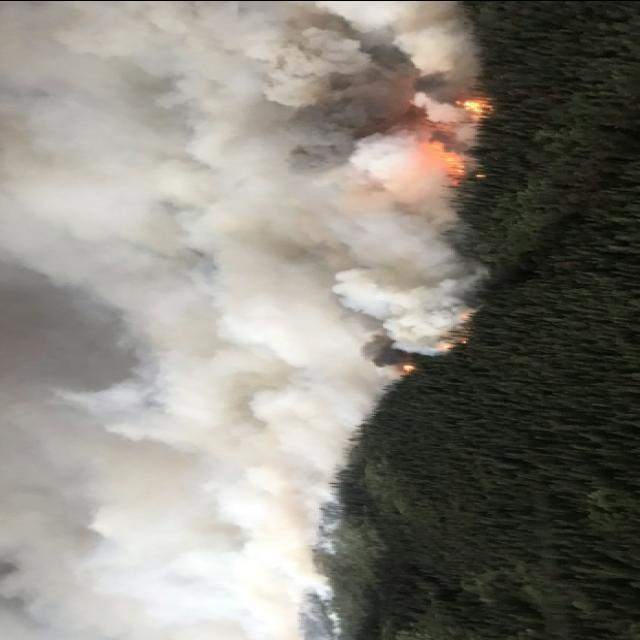Fire: (429, 92, 499, 174)
